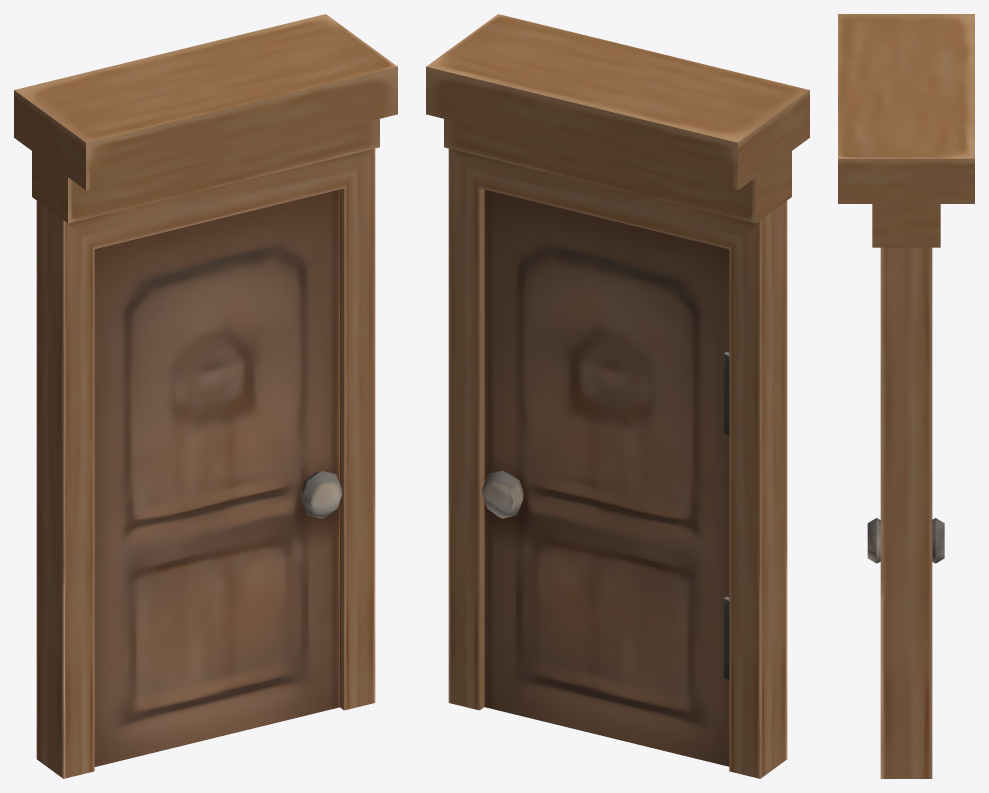
Rendered from Door wood 01_HD.fbx.
The picture shows the model from 3 angles, left to right: view 1: azimuth 30°, elevation 25°; view 2: azimuth 150°, elevation 25°; view 3: azimuth 270°, elevation 25°; orthographic projection. The views are drawn at different scales.
Parts seen in each view (by area): view 1: door, frame; view 2: door, frame; view 3: frame, door.
Part boxes in pixels (x1=…): door: x1=94, y1=189, x2=342, y2=766; frame: x1=14, y1=14, x2=397, y2=778; door: x1=482, y1=189, x2=729, y2=766; frame: x1=426, y1=14, x2=809, y2=778; frame: x1=838, y1=14, x2=974, y2=778; door: x1=867, y1=518, x2=944, y2=563.
Size of the model in its own units: 1 by 2 by 0.4.
